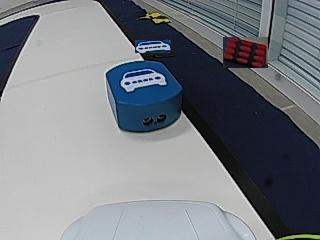safety: (120, 67, 167, 91)
